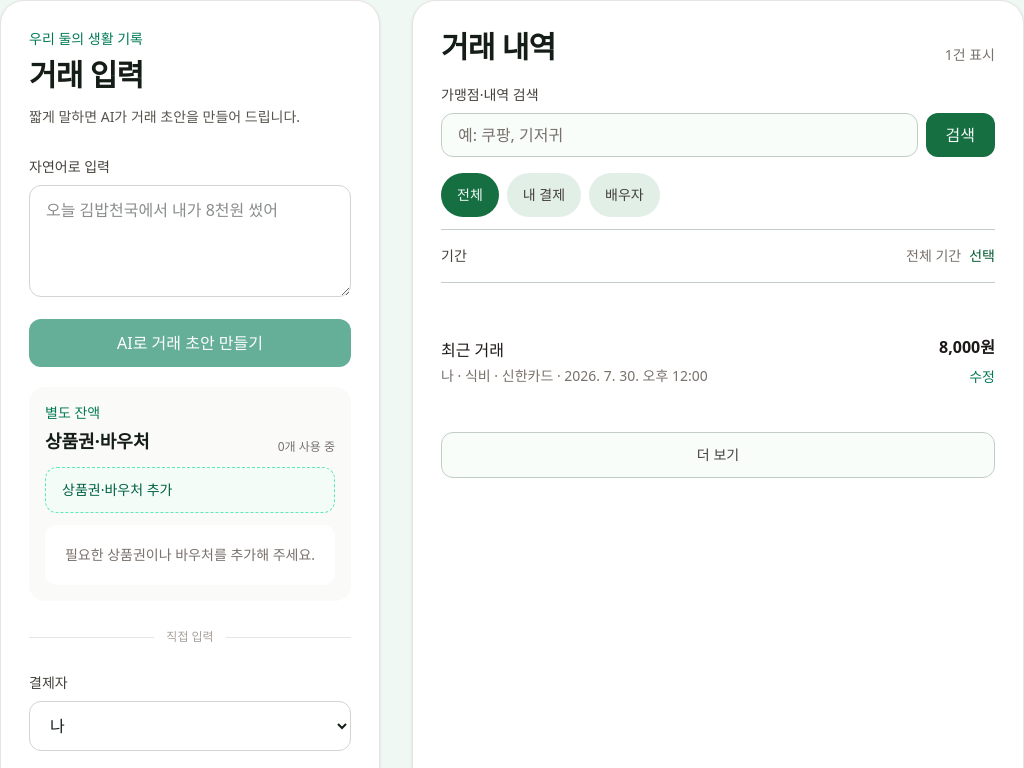
Test: TransactionsPage › loads the next cursor page and resets pagination when the payer filter changes
expect the text "최근 거래" is shown: met, box top-left (441, 338), bottom-right (504, 360)
expect the text "1건 표시" is shown: met, box top-left (945, 45), bottom-right (995, 65)
Click the button "더 보기" at (718, 455), box top-left (441, 432), bottom-right (995, 478)
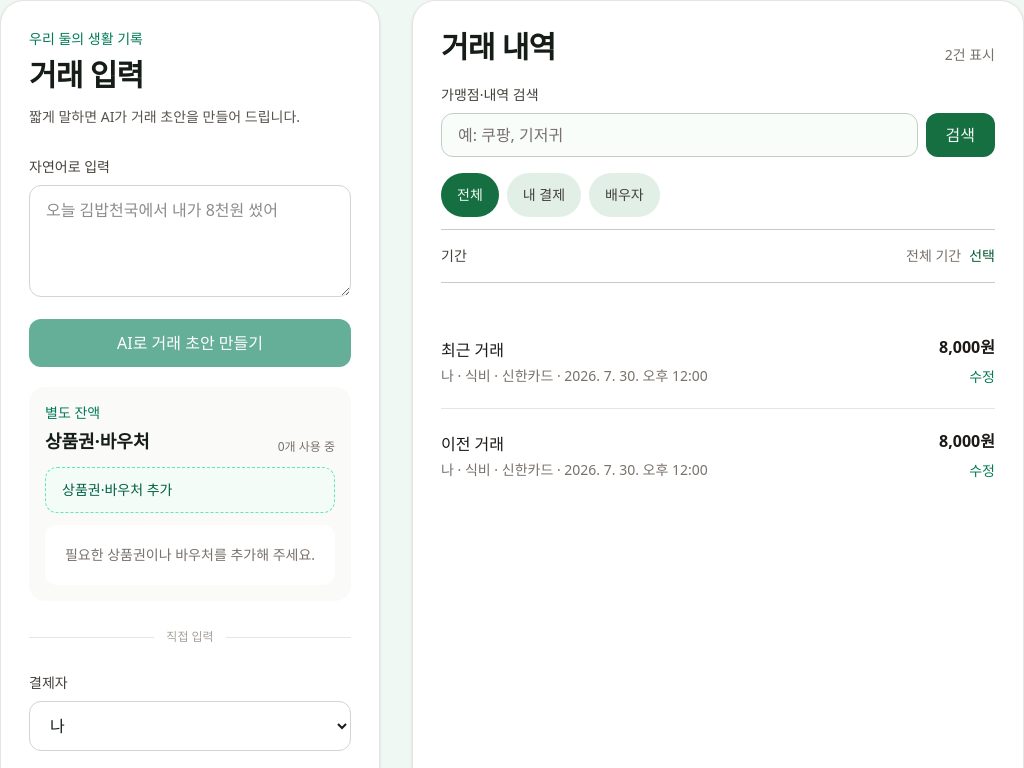
expect the text "이전 거래" is shown: met, box top-left (441, 432), bottom-right (504, 454)
expect the text "2건 표시" is shown: met, box top-left (945, 45), bottom-right (995, 65)
Click the button "내 결제" at (544, 195), box top-left (507, 173), bottom-right (581, 217)
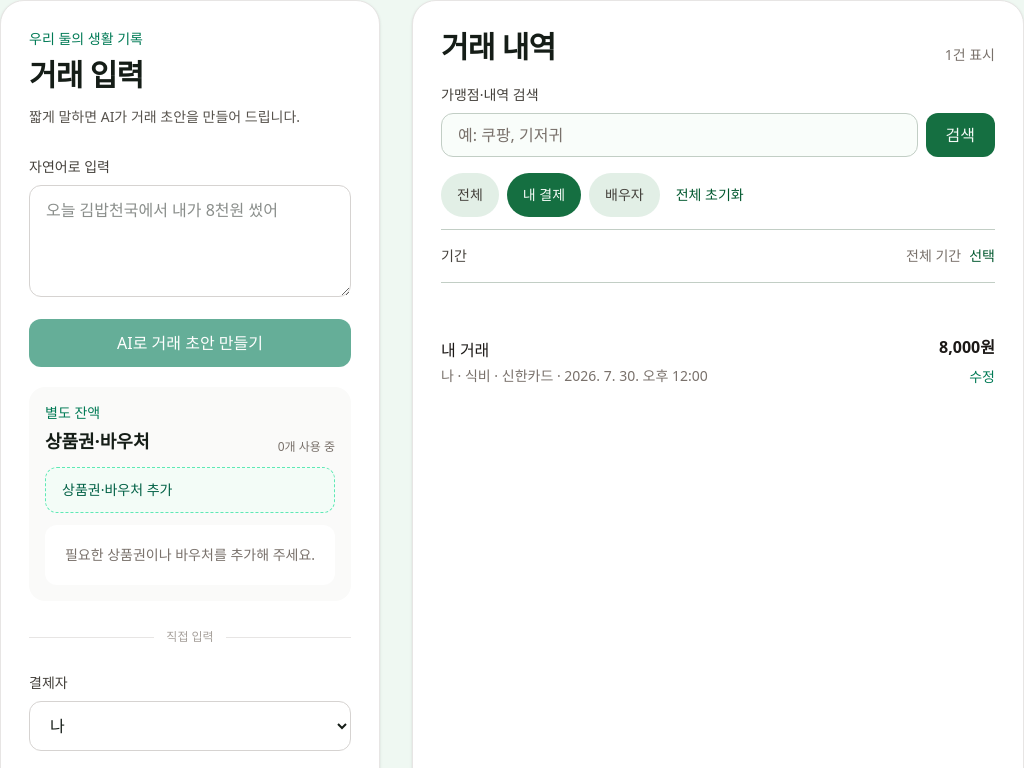
expect the text "내 거래" is shown: met, box top-left (441, 338), bottom-right (489, 360)
expect the text "최근 거래" is gone: met
expect the text "이전 거래" is gone: met
